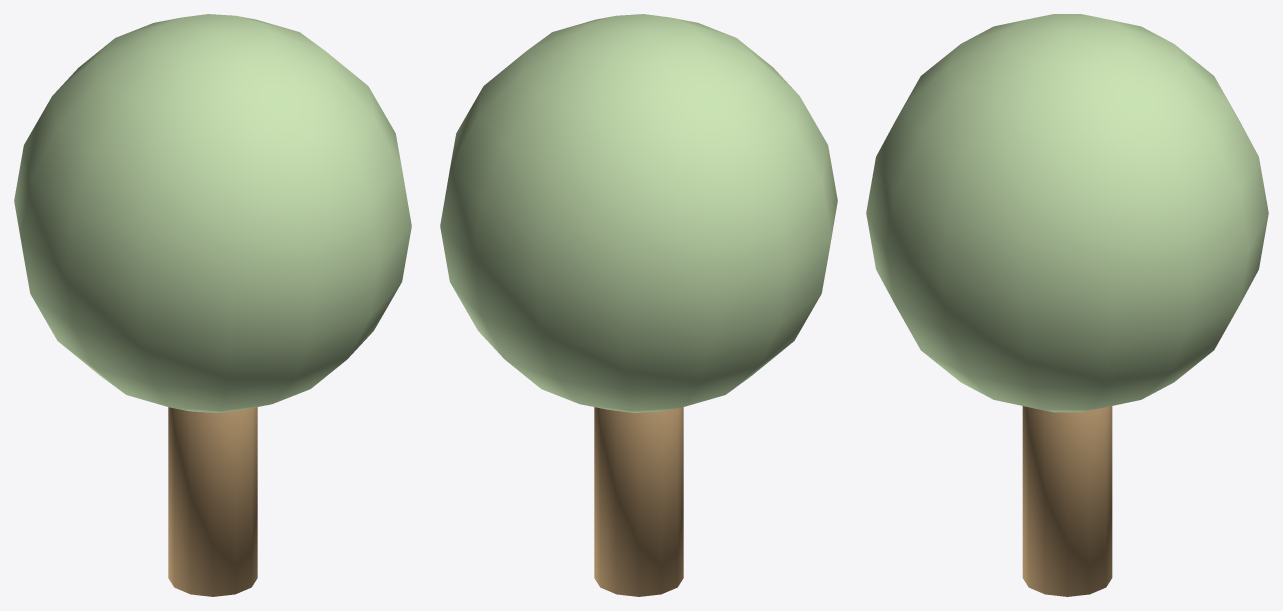
File: prop_apple_tree.glb
3 views of the same model, side by side, from view 1: azimuth 30°, elevation 25°; view 2: azimuth 150°, elevation 25°; view 3: azimuth 270°, elevation 25° (orthographic).
Visible parts, largest first — view 1: prop_apple_tree; view 2: prop_apple_tree; view 3: prop_apple_tree.
Part boxes in pixels (box(x1,y1,x2,y2)): prop_apple_tree: box(14, 14, 411, 596); prop_apple_tree: box(440, 14, 837, 596); prop_apple_tree: box(866, 14, 1268, 596).
Bounding box in the file's own units: 1.75 × 2.7 × 1.8.
